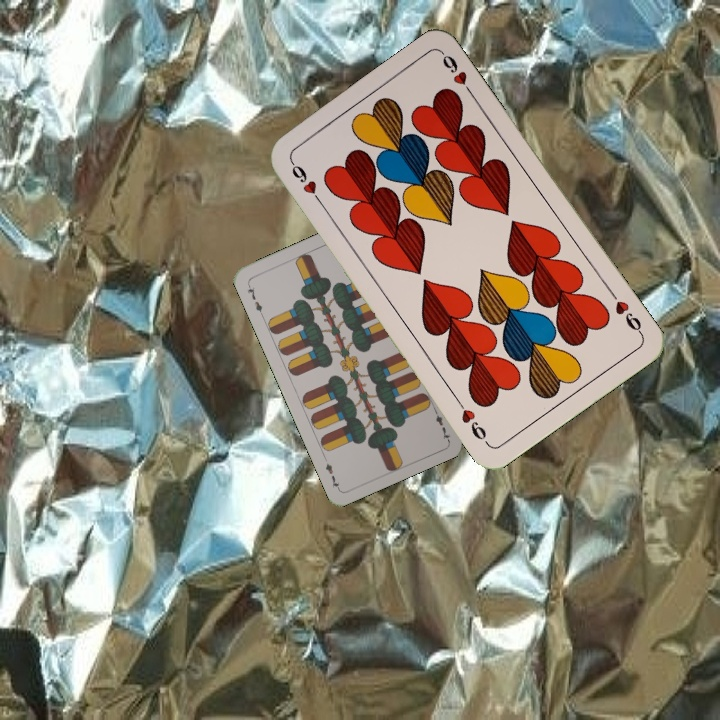E7: (429, 404, 453, 443), (243, 280, 266, 319)
H9: (606, 286, 646, 338), (286, 157, 326, 209)
